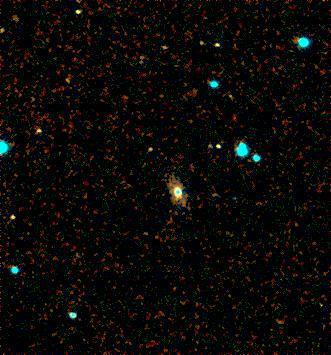star: (56, 64, 86, 94)
